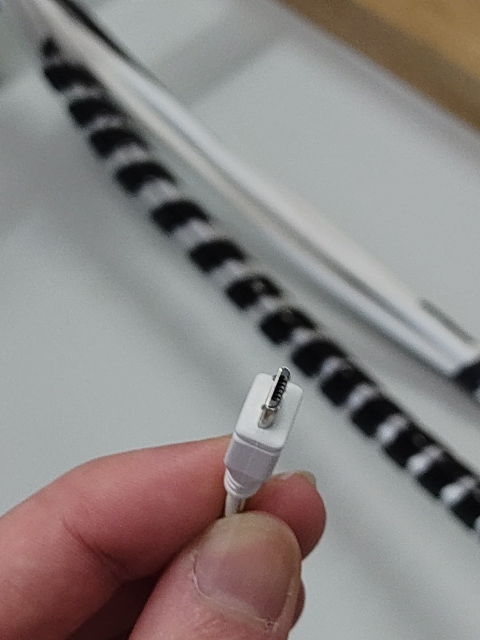Micro-USB: (257, 366, 292, 428)
